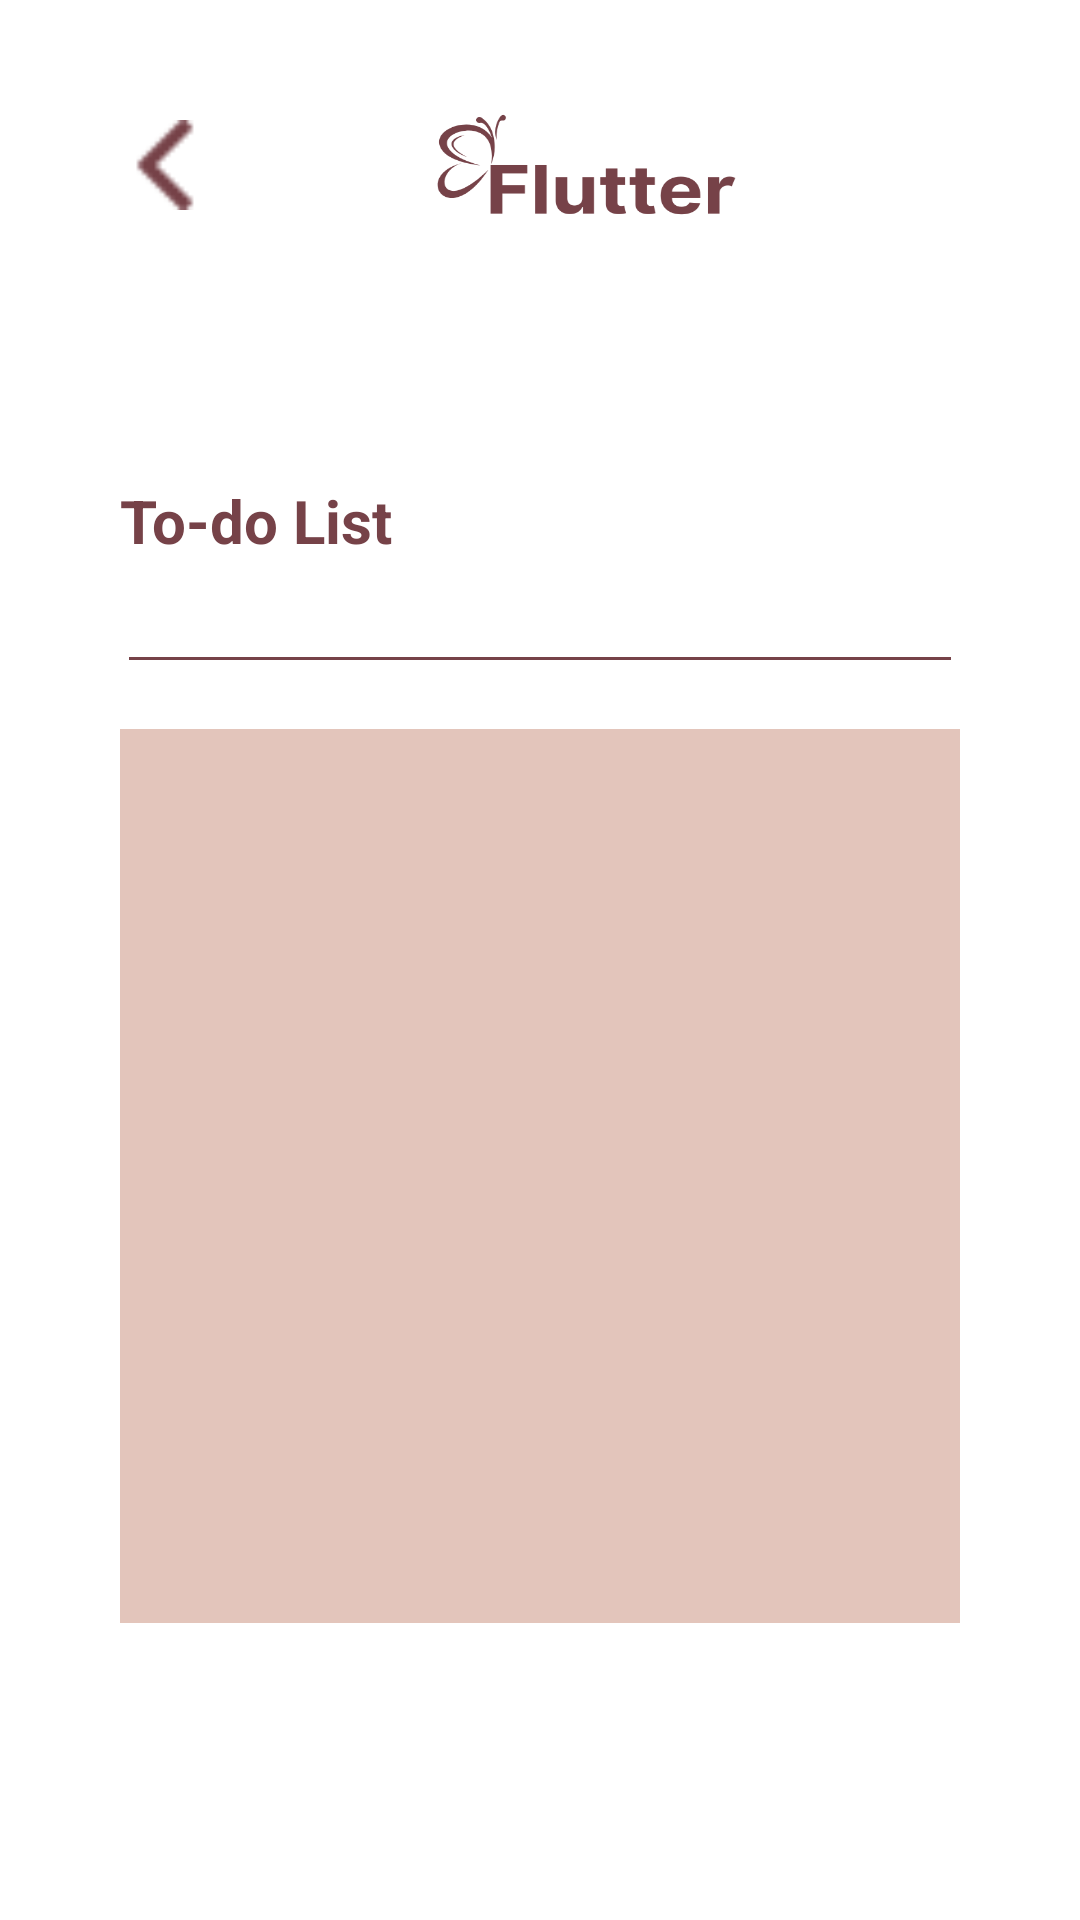

Icon bounding boxes for this 1080px×1920px phone screenshot, format (x1, y1, x2, y2):
back: (137, 120, 194, 210)
